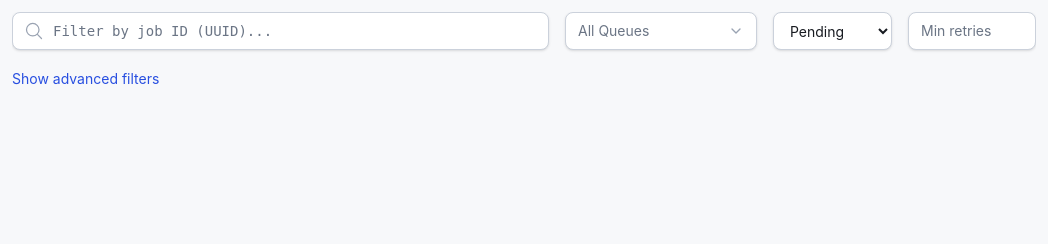
it: JobsFilterBar › shows advanced filters when toggled
The width and height of the screenshot is (1048, 244).
Check: the text "Add data filter" is not shown
Click the button "Show advanced filters".
click(86, 79)  # box [12, 69, 159, 89]
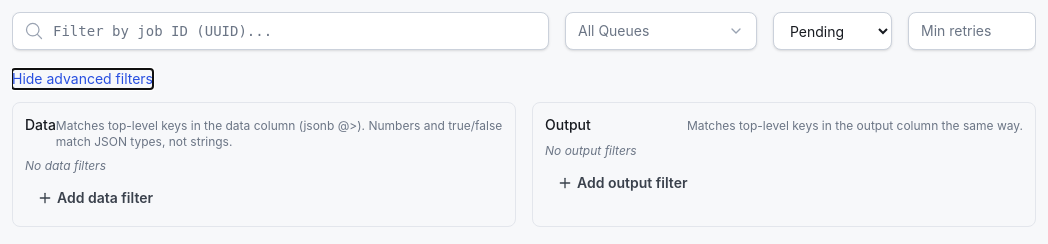
Check: the button "Add data filter" is shown, box [25, 182, 165, 214]
Check: the button "Add output filter" is shown, box [545, 167, 700, 199]
